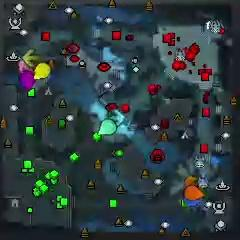p1: (183, 197, 204, 207)
p2: (98, 119, 116, 136)
p3: (18, 70, 35, 92)
p4: (33, 63, 51, 80)
p5: (183, 185, 205, 200)
x1: (18, 60, 33, 73)
x2: (23, 49, 41, 66)
x3: (109, 110, 126, 127)
x4: (198, 186, 209, 203)
x5: (183, 175, 198, 187)
